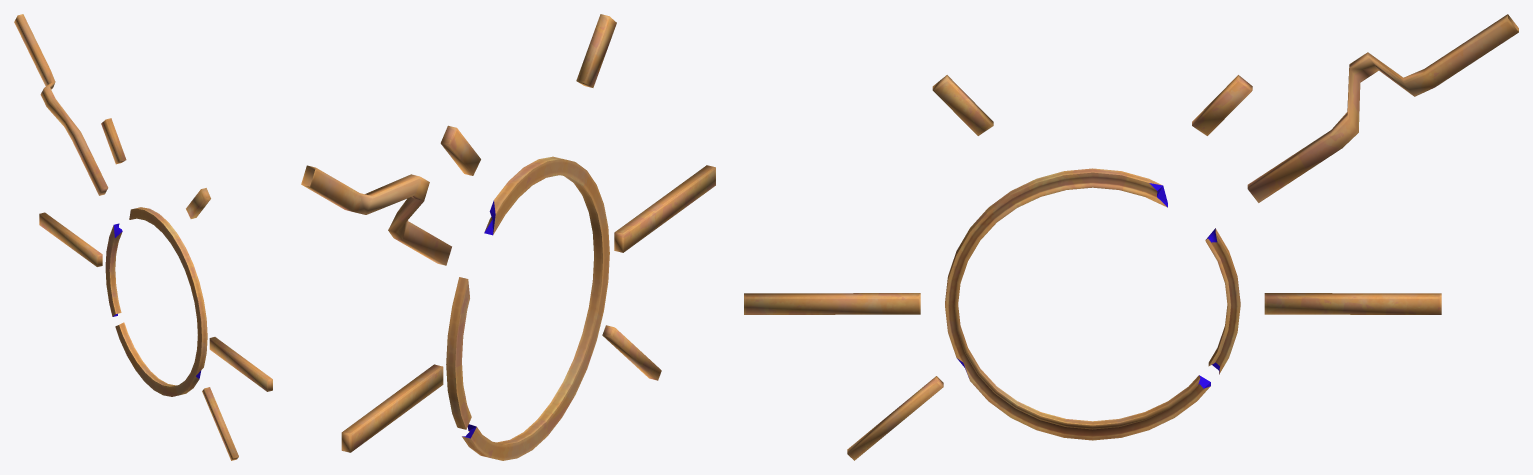
File: SM_Throne_broken_Circle.fbx
3 renders of one model, left to right at view 1: azimuth 30°, elevation 25°; view 2: azimuth 150°, elevation 25°; view 3: azimuth 270°, elevation 25°, orthographic. The views are drawn at different scales.
Parts seen in each view (by area): view 1: SM_Throne_broken_Circle; view 2: SM_Throne_broken_Circle; view 3: SM_Throne_broken_Circle.
Boxes of the visible parts, x1,y1,x2,y2 form: SM_Throne_broken_Circle: [14, 14, 272, 460]; SM_Throne_broken_Circle: [301, 14, 715, 460]; SM_Throne_broken_Circle: [744, 14, 1518, 460].
Size of the model in its own units: 0.5503 by 5.98 by 9.49.
2 materials, 1 textured.
